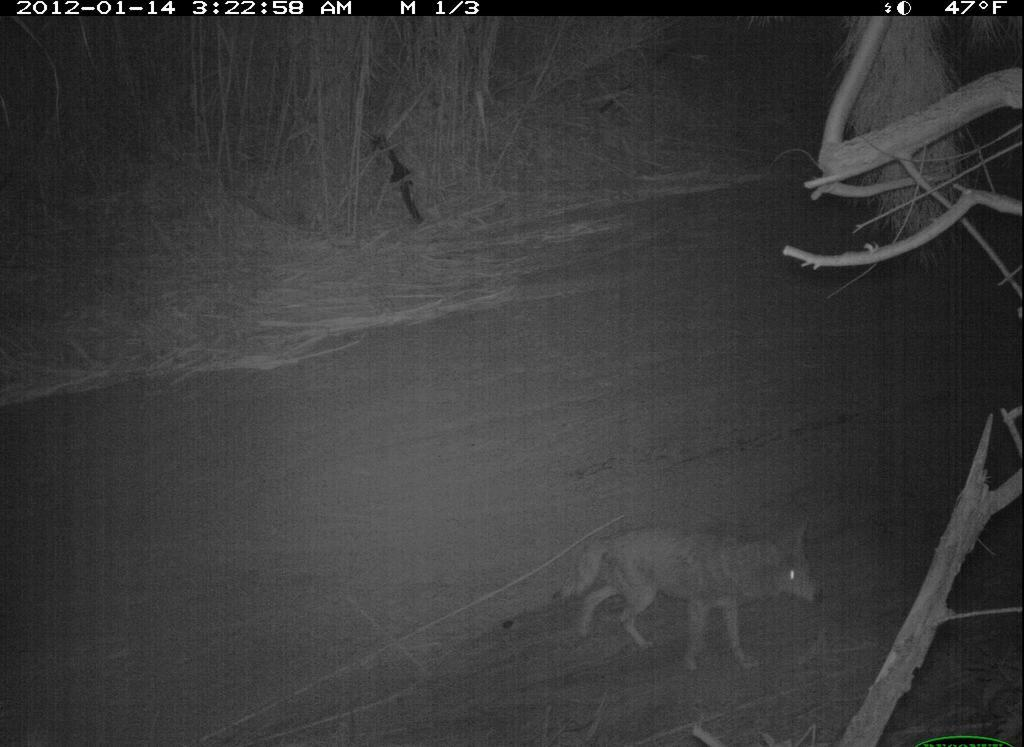coyote: (557, 519, 825, 669)
